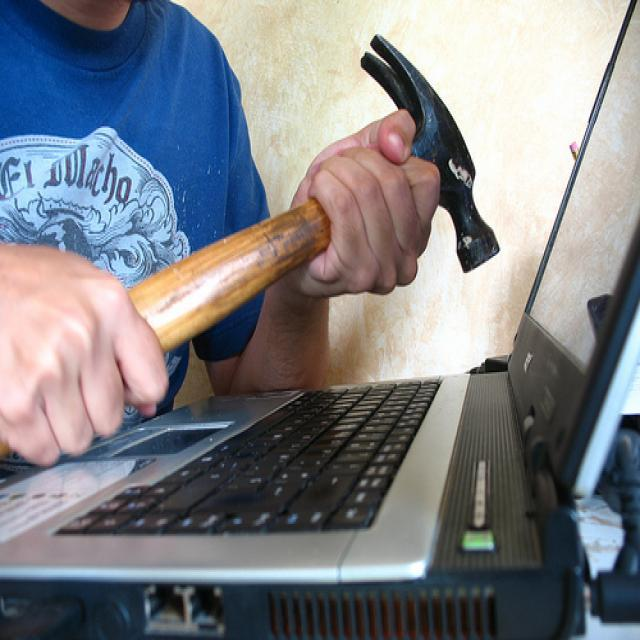hammer: (9, 26, 504, 420)
